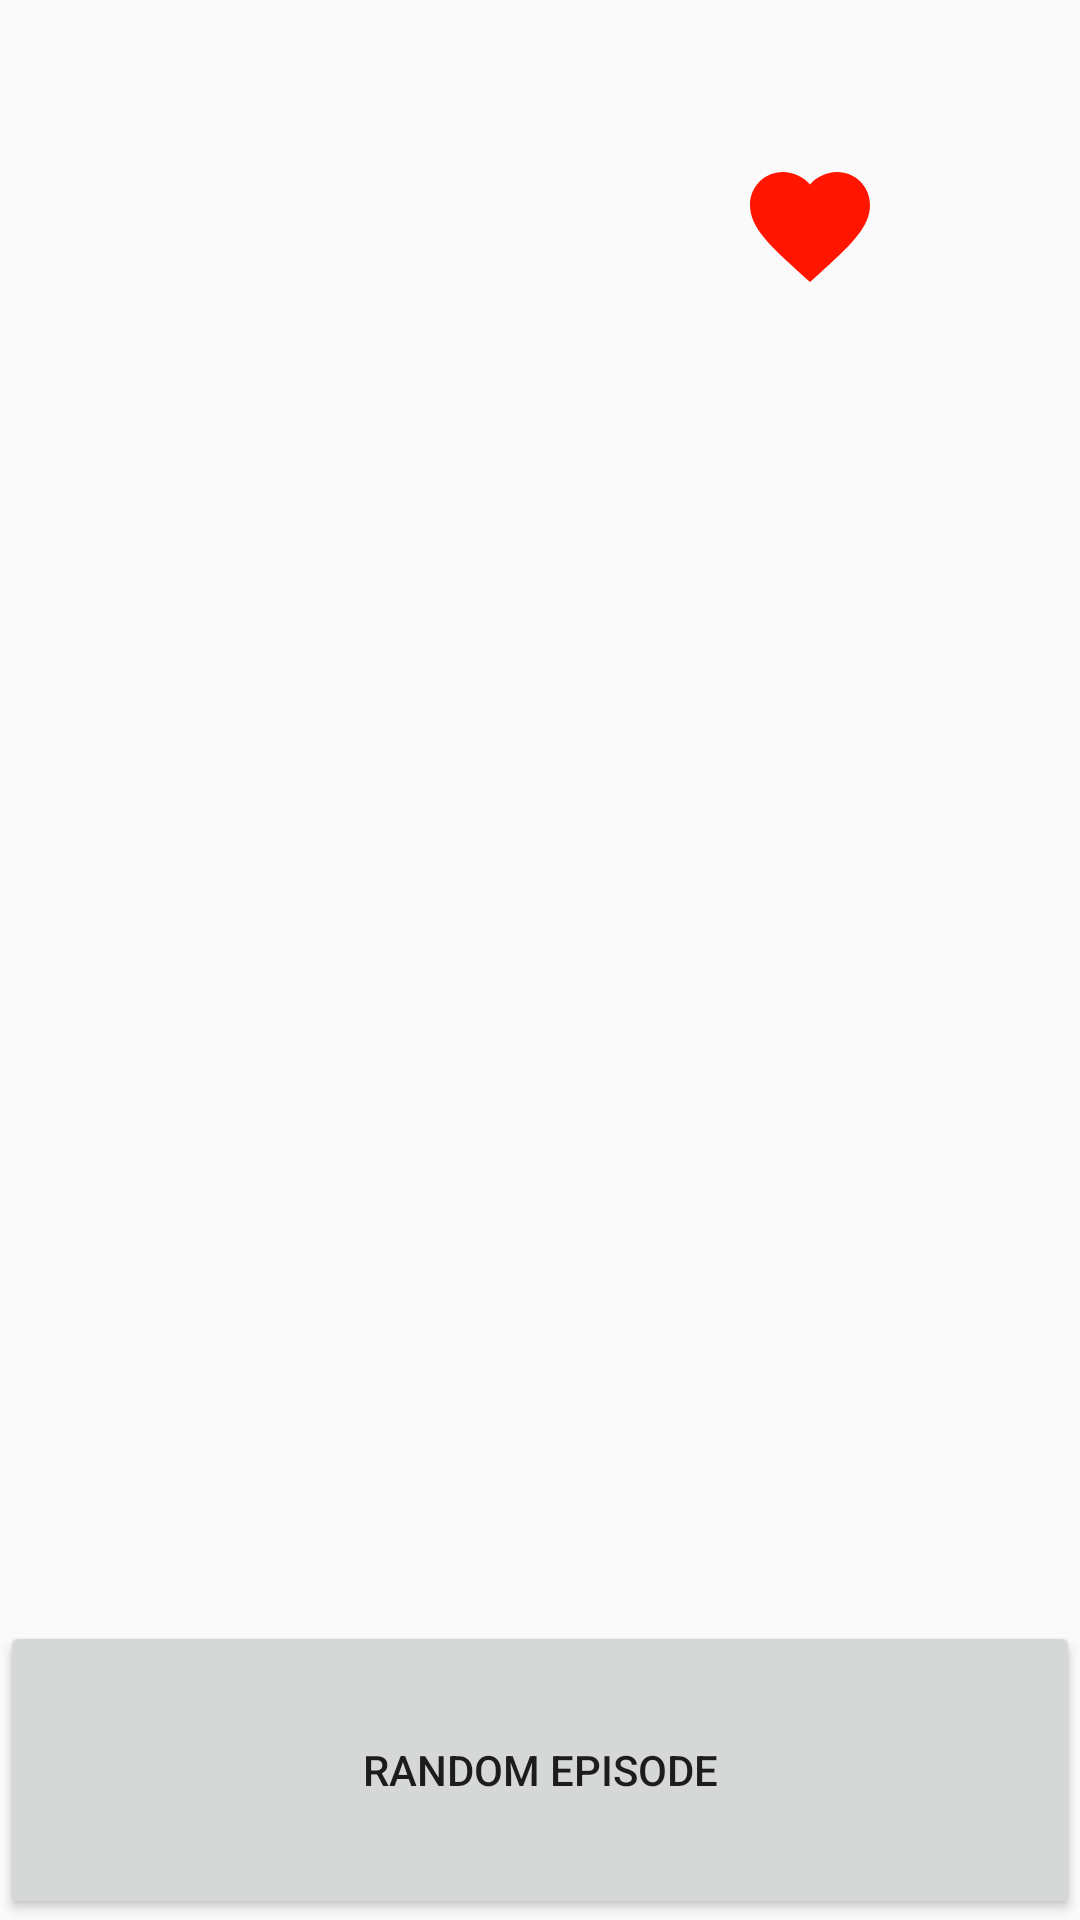

Where to tap for icons on this 1080 x 1920 app screen, as (x=x, y=y):
Add to favourites: (x=810, y=227)
